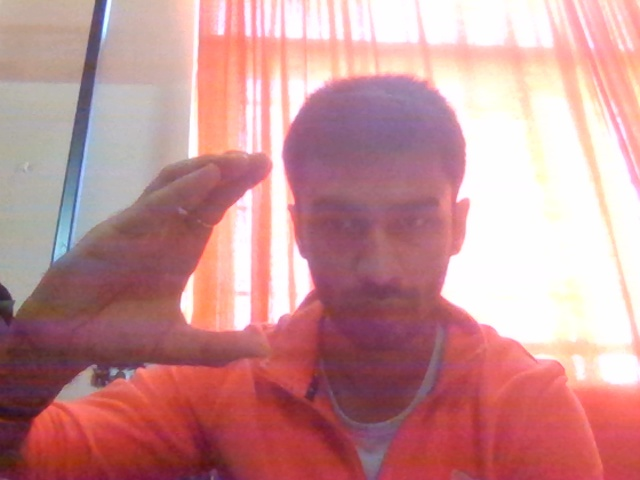C: (33, 133, 281, 398)
